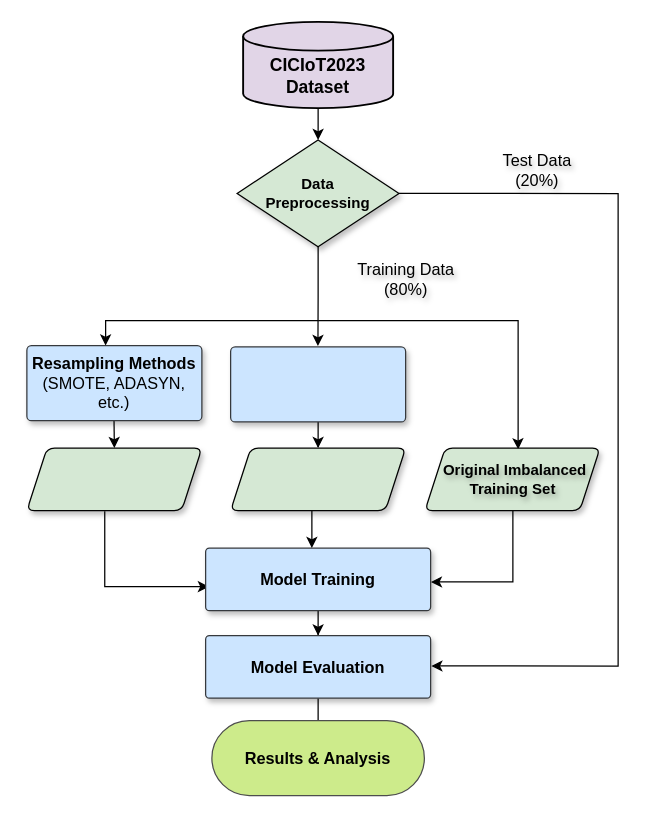
Image size: 650x819. Some labels were removed from this diagram. Each missing label, with the centre of its shape:
"Balanced Training Set" belongs at point 115,480.
"Feature Selection Methods (PSO, GA, etc.)" belongs at point 318,386.
"Reduced-Feature Training Set" belongs at point 318,480.
